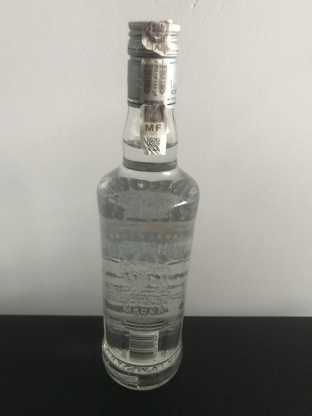nakretka: (125, 17, 181, 108)
